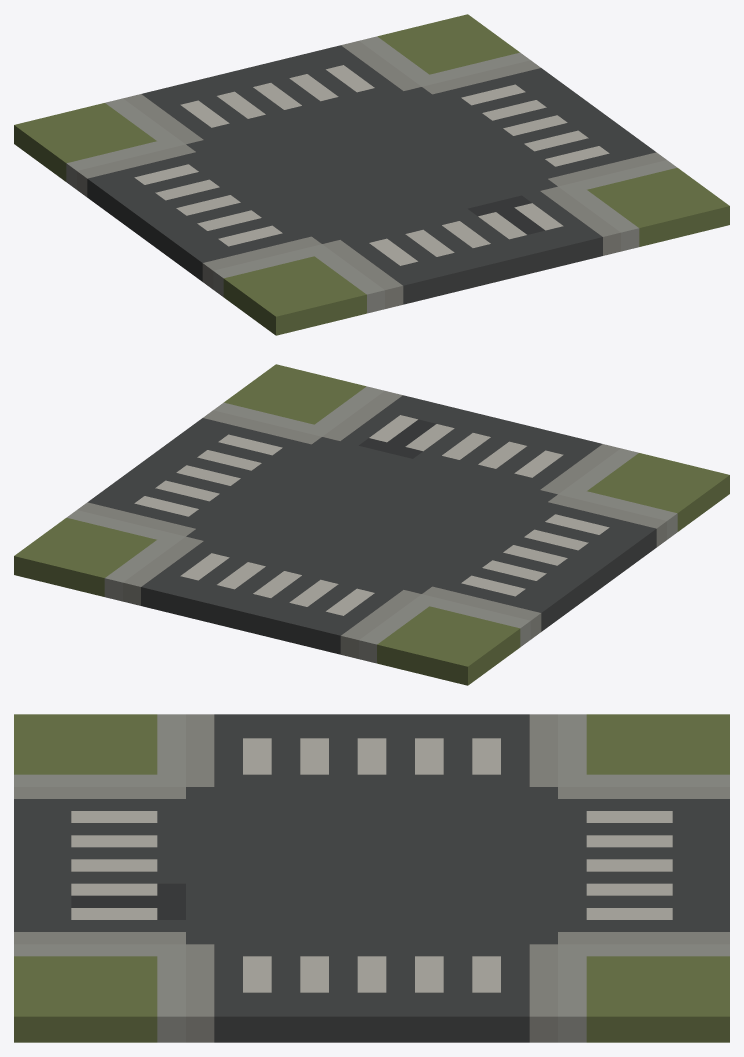
File: Claude_road_intersection.glb
3 views of the same model, one above another, from view 1: azimuth 30°, elevation 25°; view 2: azimuth 150°, elevation 25°; view 3: azimuth 270°, elevation 25° (orthographic). The views are drawn at different scales.
Visible parts, largest first — view 1: Claude_road_intersection; view 2: Claude_road_intersection; view 3: Claude_road_intersection.
Boxes of the visible parts, bbox=[...] form: Claude_road_intersection: bbox=[14, 14, 729, 335]; Claude_road_intersection: bbox=[14, 364, 729, 685]; Claude_road_intersection: bbox=[14, 714, 729, 1042].
Bounding box in the file's own units: 12.5 × 0.5 × 12.5.
